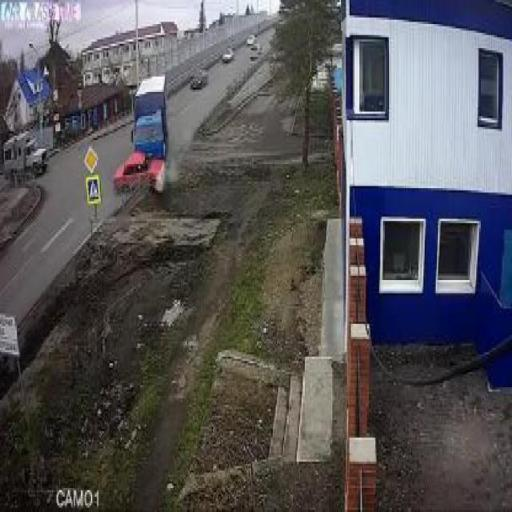小汽车: (2, 136, 50, 176), (188, 68, 208, 90), (223, 44, 235, 62)
小汽车撞小汽车: (117, 80, 168, 189)
